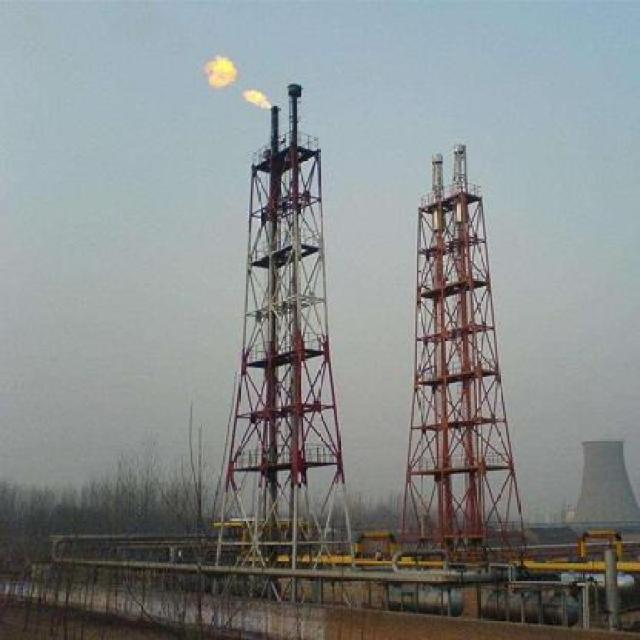Fire: (207, 56, 236, 87), (246, 88, 272, 110)
